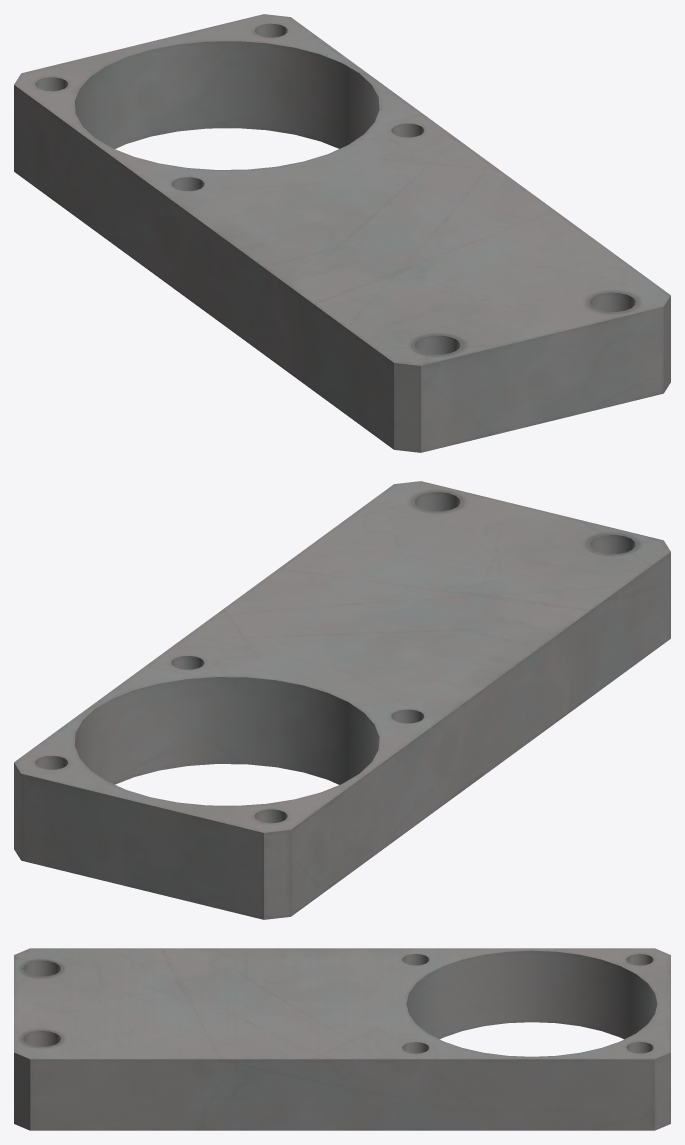
File: ironPartsA.fbx
3 renders of one model, top to bottom at view 1: azimuth 30°, elevation 25°; view 2: azimuth 150°, elevation 25°; view 3: azimuth 270°, elevation 25°, orthographic. The views are drawn at different scales.
Visible parts, largest first — view 1: ironPartsA; view 2: ironPartsA; view 3: ironPartsA.
Part boxes in pixels (x1,y1,x2,y2): ironPartsA: (14, 14, 670, 452); ironPartsA: (14, 481, 670, 919); ironPartsA: (14, 948, 670, 1130).
Size of the model in its own units: 10 by 3 by 25.
